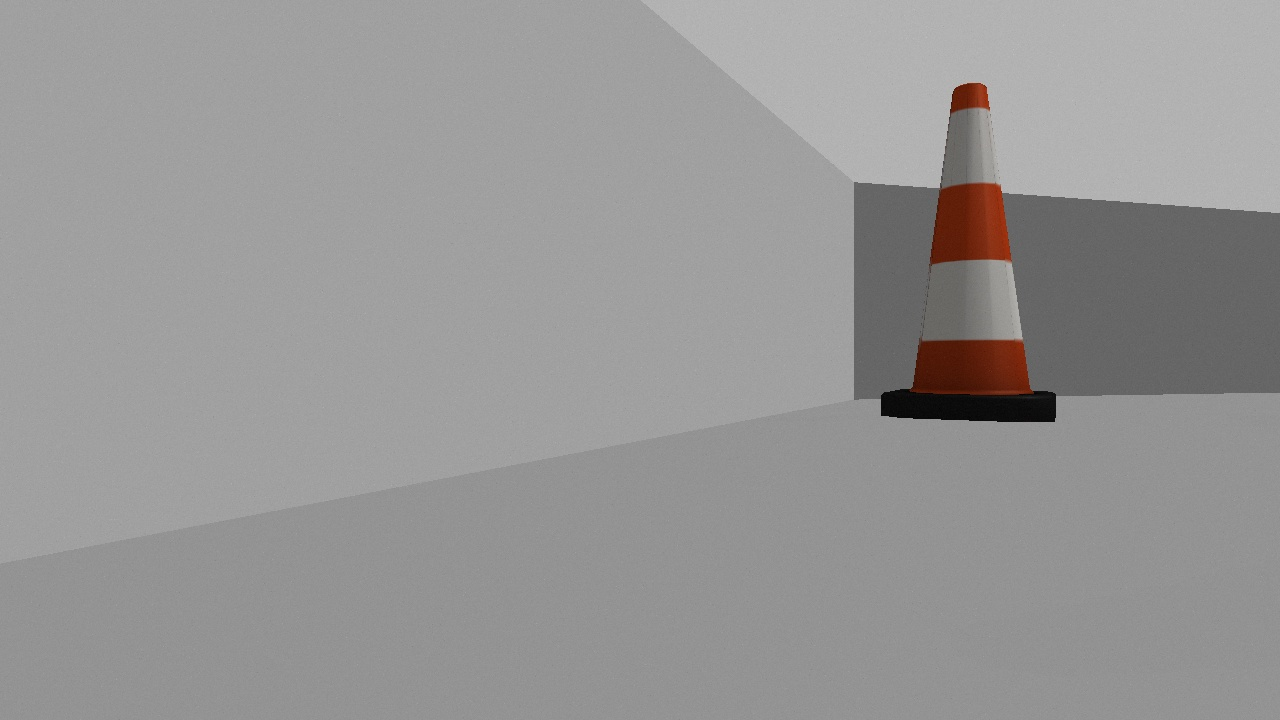barricade: (879, 73, 1055, 423)
